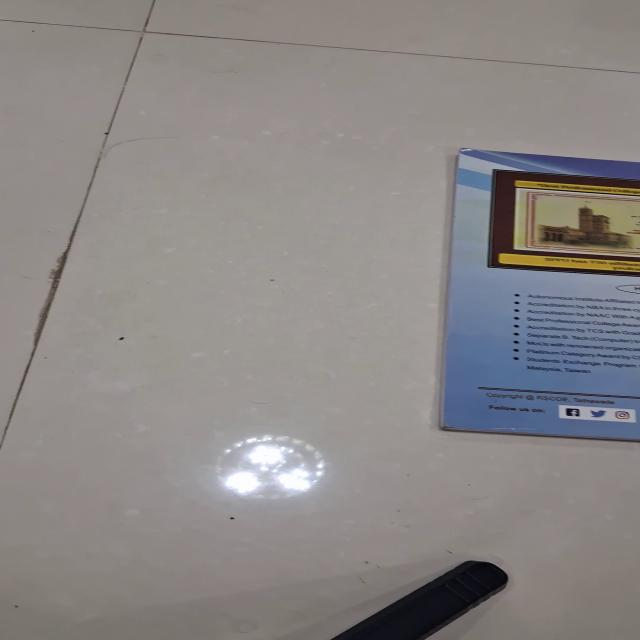paper: (437, 147, 639, 441)
